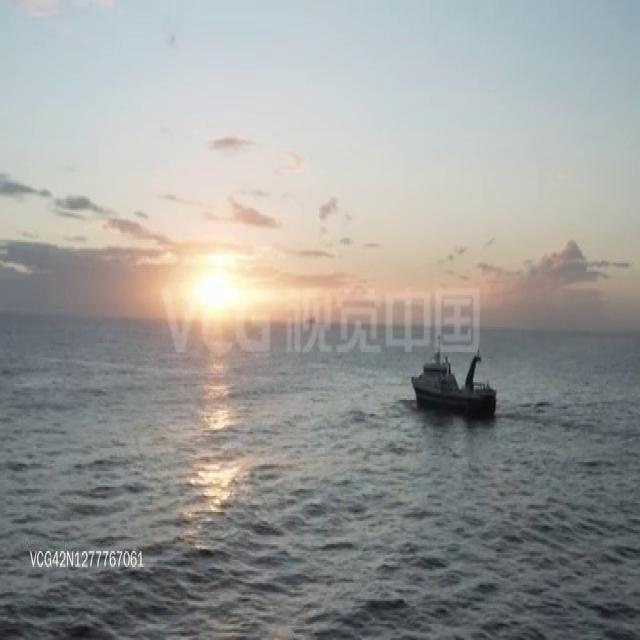houseboat: (412, 345, 496, 418)
